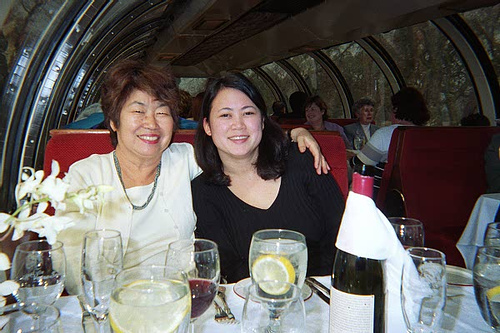without_mask: (105, 82, 176, 159), (203, 91, 267, 158), (306, 103, 325, 125), (356, 104, 375, 125)
